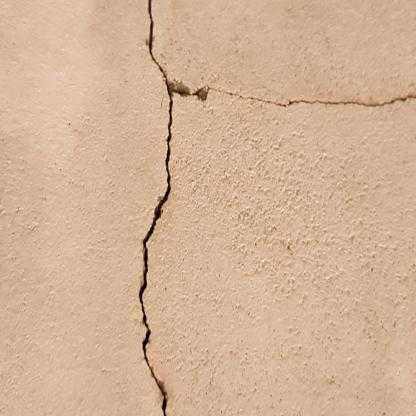crack: (139, 0, 416, 416)
